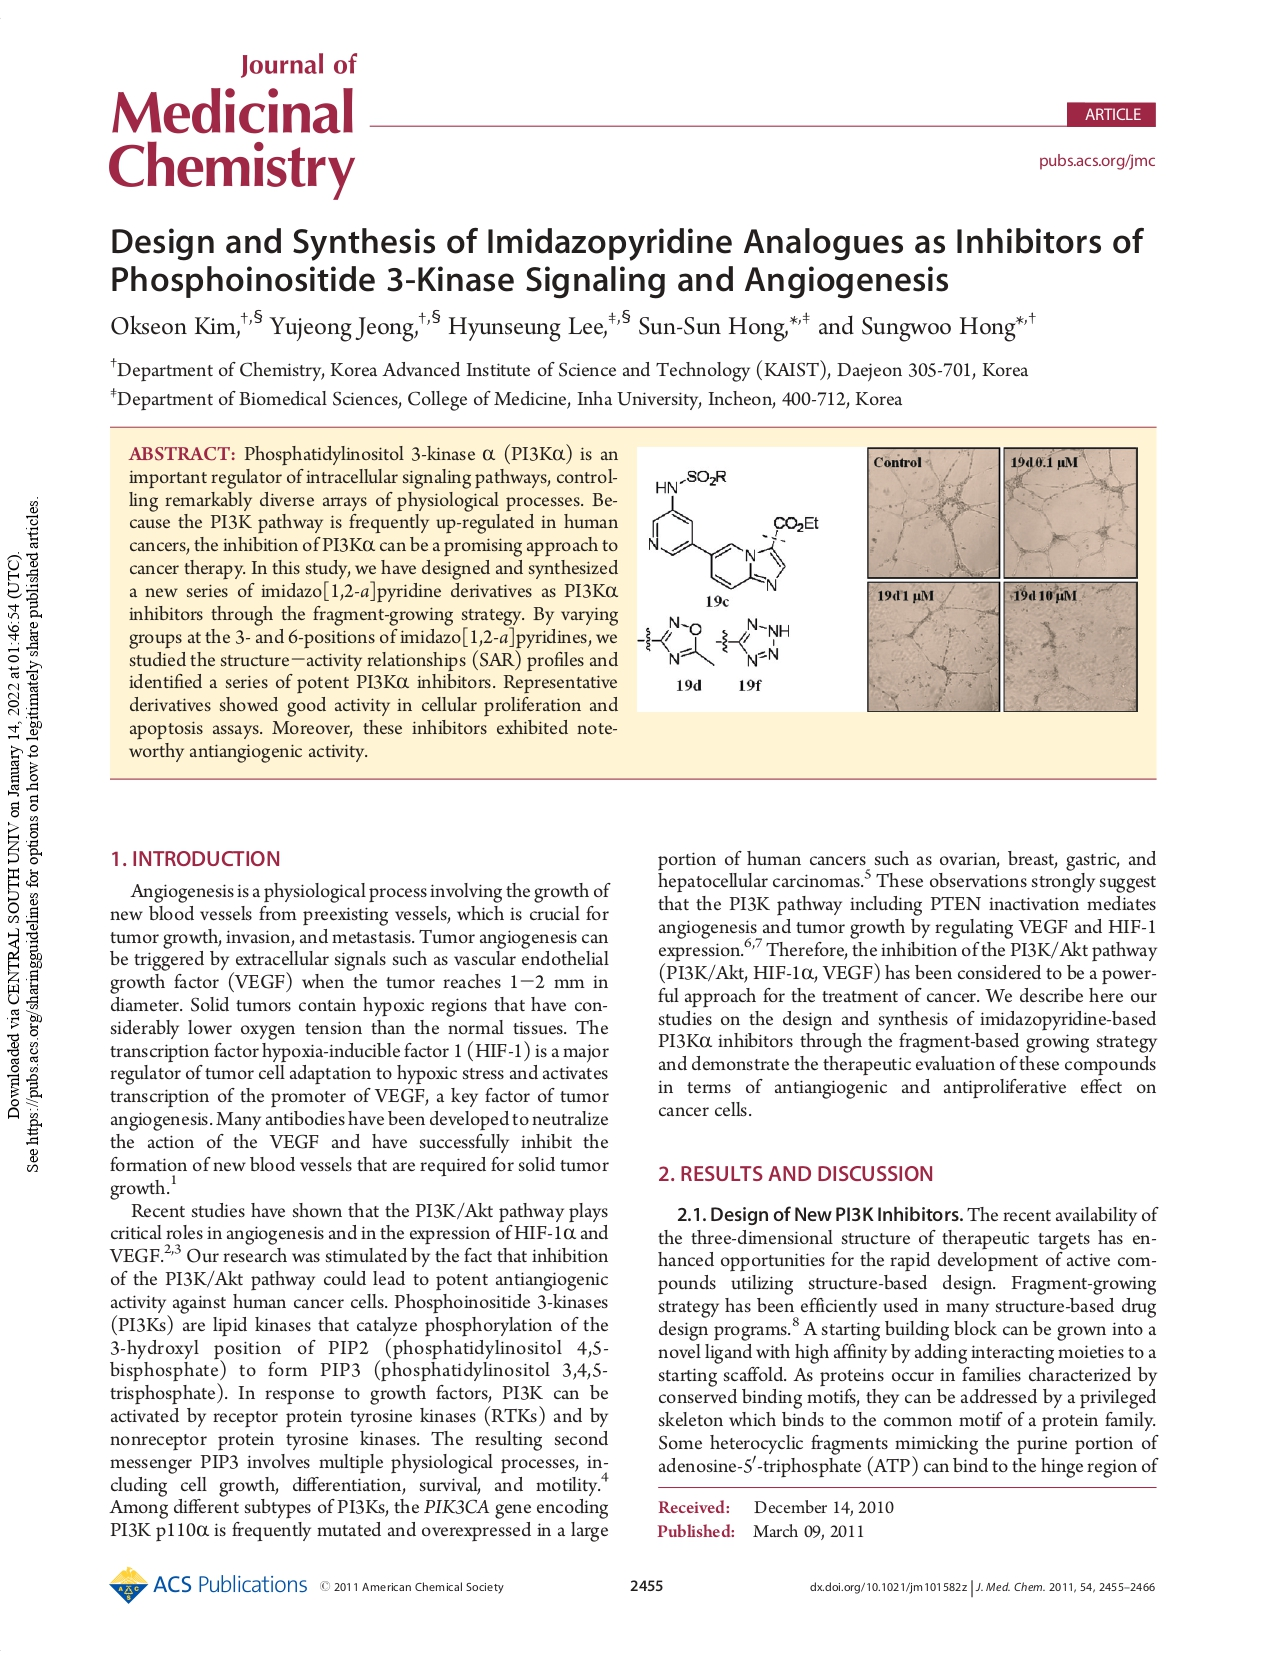exist_molecular: (648, 464, 821, 594), (636, 613, 714, 670), (714, 612, 791, 668)
